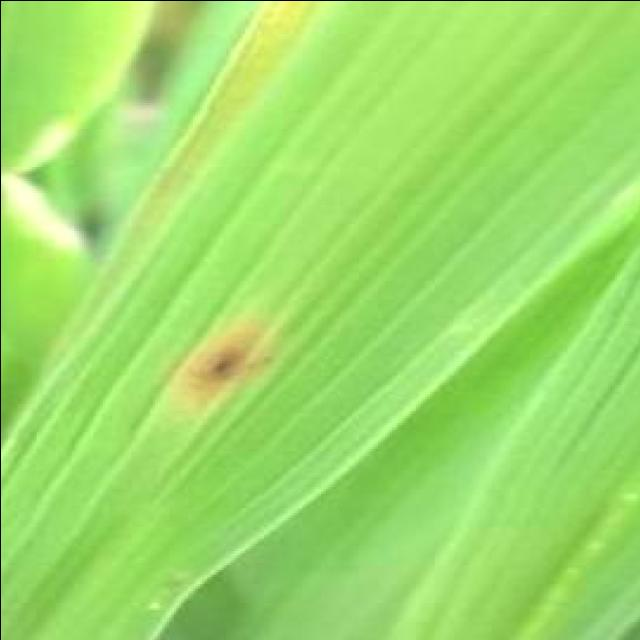Brown_Spot: (170, 312, 270, 398)
